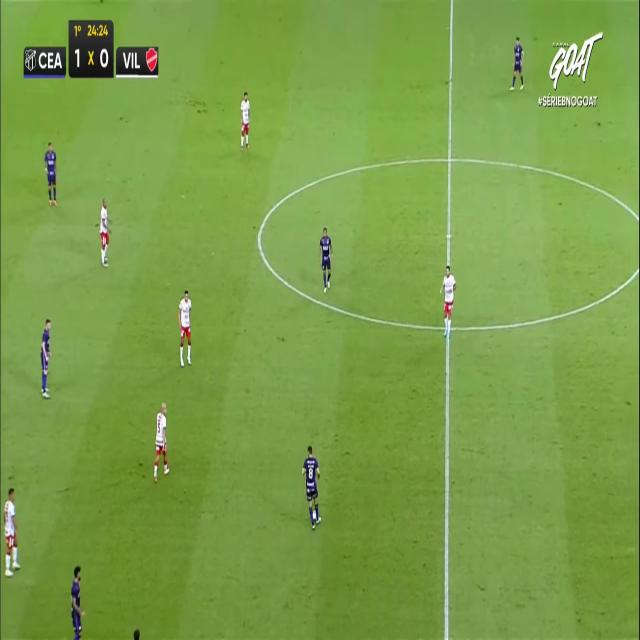ball: (312, 509, 319, 524)
player: (301, 445, 322, 529), (3, 487, 21, 573), (153, 402, 169, 482), (177, 289, 192, 365), (440, 265, 456, 336), (70, 566, 85, 639), (44, 140, 58, 205), (98, 199, 111, 267), (41, 318, 52, 398), (319, 226, 332, 292), (509, 36, 524, 90), (240, 91, 249, 149)
